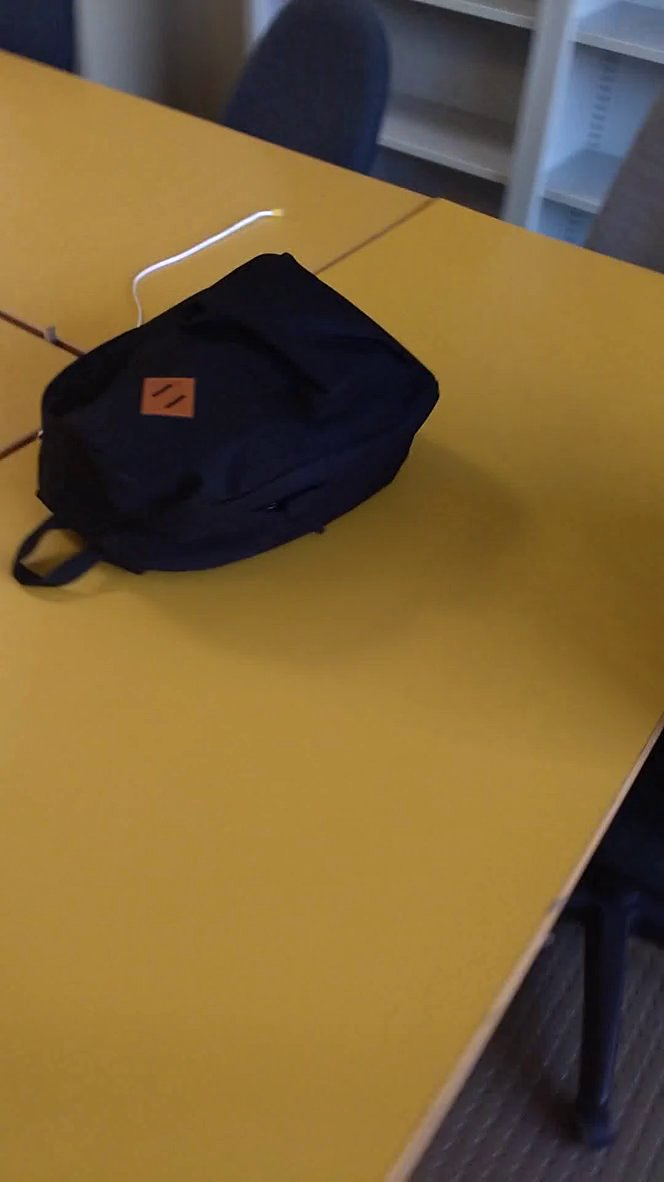bag: (1, 250, 448, 609)
chair: (212, 1, 409, 196)
